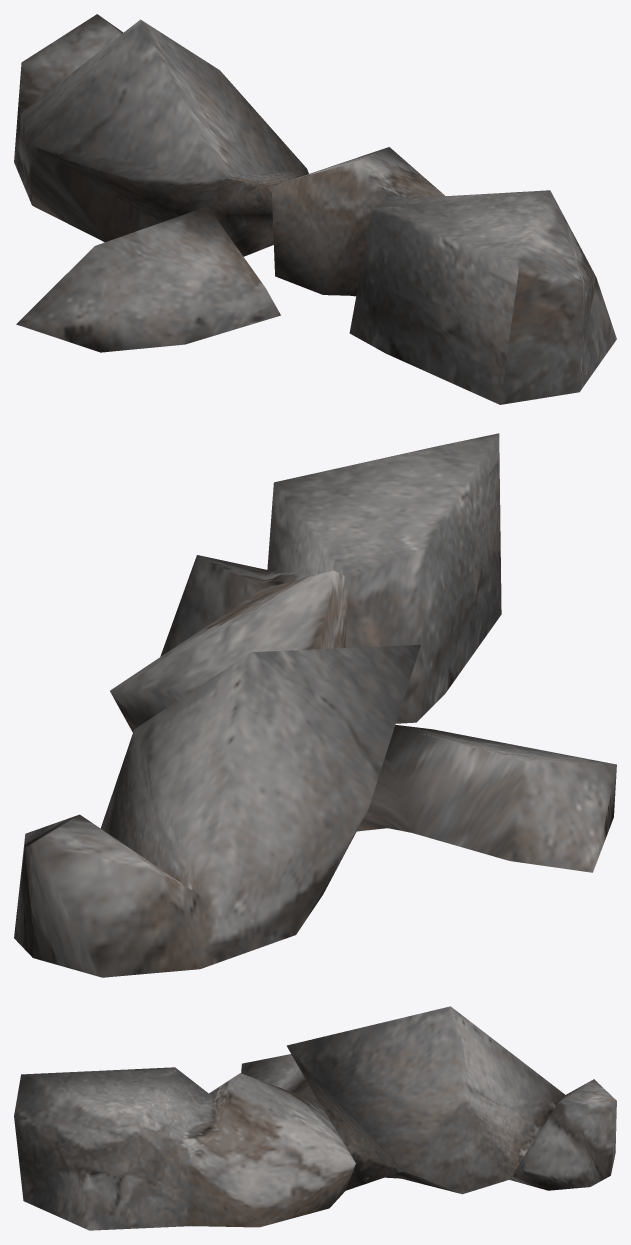
Rendered from forest_rock_5.glb.
3 views of the same model, one above another, from view 1: azimuth 30°, elevation 25°; view 2: azimuth 150°, elevation 25°; view 3: azimuth 270°, elevation 25° (orthographic). The views are drawn at different scales.
Visible parts, largest first — view 1: Rocks.005_Rocks_0; view 2: Rocks.005_Rocks_0; view 3: Rocks.005_Rocks_0.
Part boxes in pixels (box(x1,y1,x2,y2)): Rocks.005_Rocks_0: box(14, 14, 616, 404); Rocks.005_Rocks_0: box(14, 433, 616, 977); Rocks.005_Rocks_0: box(14, 1006, 616, 1230).
Bounding box in the file's own units: 2.32 × 1.03 × 3.8.
Materials: 1 (1 with a texture image).
